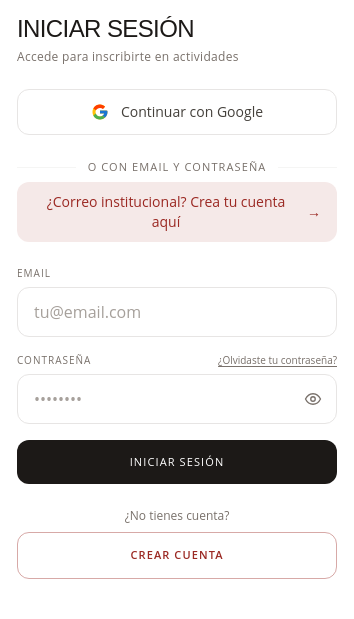
it: AuthPage — contraseña al crear cuenta › la lista de requisitos se ve antes de escribir y la barra al escribir
Step 1. Click the button "¿Correo institucional? Crea tu cuenta aquí →" → (177, 212), box [17,182,337,242]
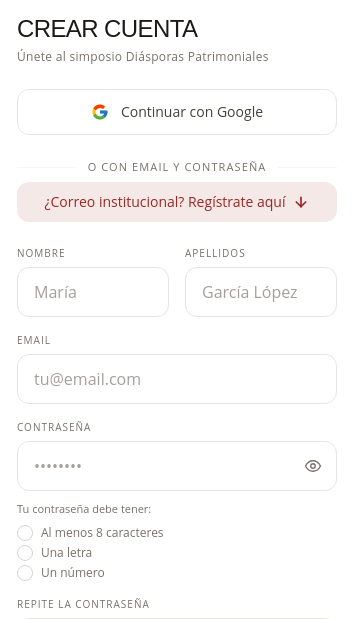
Check: the text "Seguridad:" is not shown
Check: the list item "Al menos 8 caracteres" is shown, box [16,524,164,548]
Step 2. Type "viaje2canarias" into the password field labelled "Contraseña" → (177, 466), box [17,440,337,490]
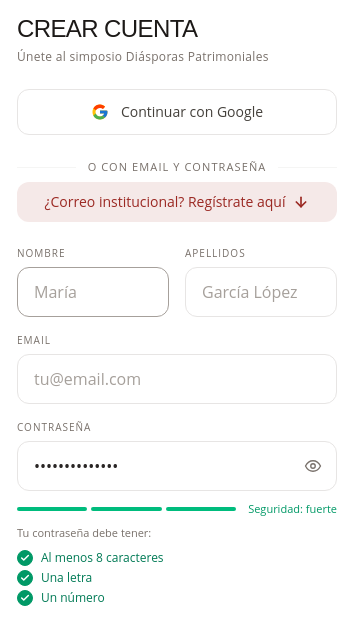
Check: the text "Seguridad: fuerte" is shown, box [248,500,337,517]
